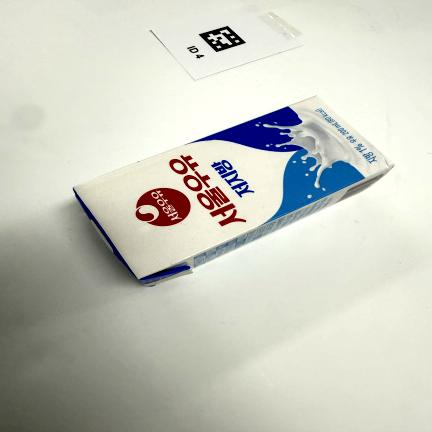milk_blue: (74, 97, 392, 285)
